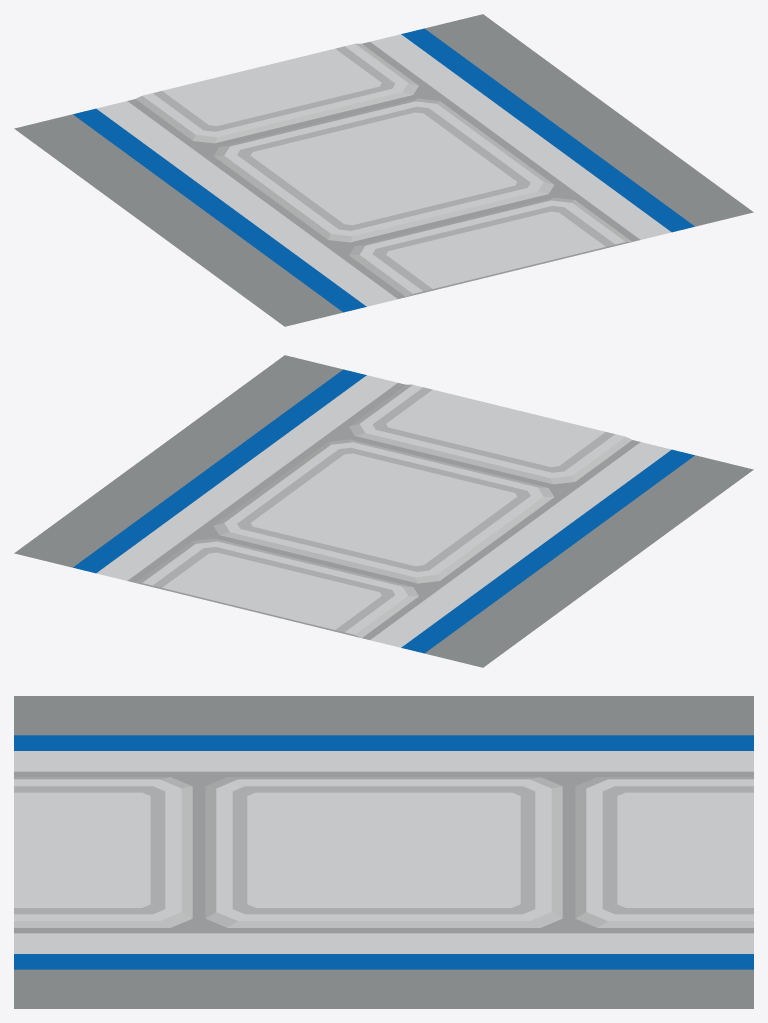
The model's file is Floor_type_A_026.001.fbx.
The picture shows the model from 3 angles, top to bottom: view 1: azimuth 30°, elevation 25°; view 2: azimuth 150°, elevation 25°; view 3: azimuth 270°, elevation 25°; orthographic projection. The views are drawn at different scales.
Parts seen in each view (by area): view 1: Floor_type_A_026.001; view 2: Floor_type_A_026.001; view 3: Floor_type_A_026.001.
Boxes of the visible parts, x1,y1,x2,y2 form: Floor_type_A_026.001: (14, 14, 753, 326); Floor_type_A_026.001: (14, 355, 753, 667); Floor_type_A_026.001: (14, 696, 753, 1008).
Size of the model in its own units: 400 by 400 by 1.34.
